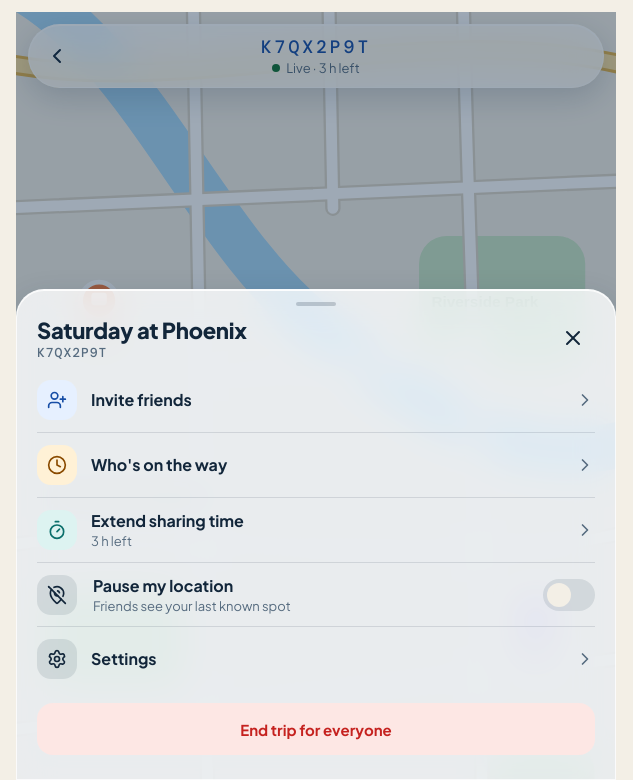
Scenario: Pause my location › pauses from the trip menu, stops reading the location, and resumes from the map
The image size is (633, 780).
Click the switch labelled "Pause my location" at {"x": 57, "y": 594}, box top-left (37, 572), bottom-right (595, 616)
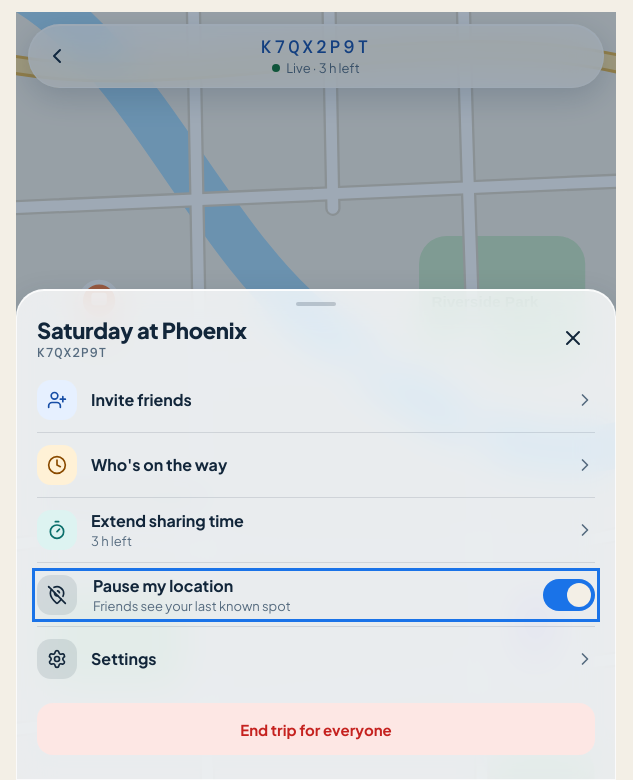
Expected: the switch labelled "Pause my location" is checked, top-left (37, 572), bottom-right (595, 616)
Click the link named "Close the menu" at {"x": 573, "y": 338}, box top-left (561, 326), bottom-right (585, 350)
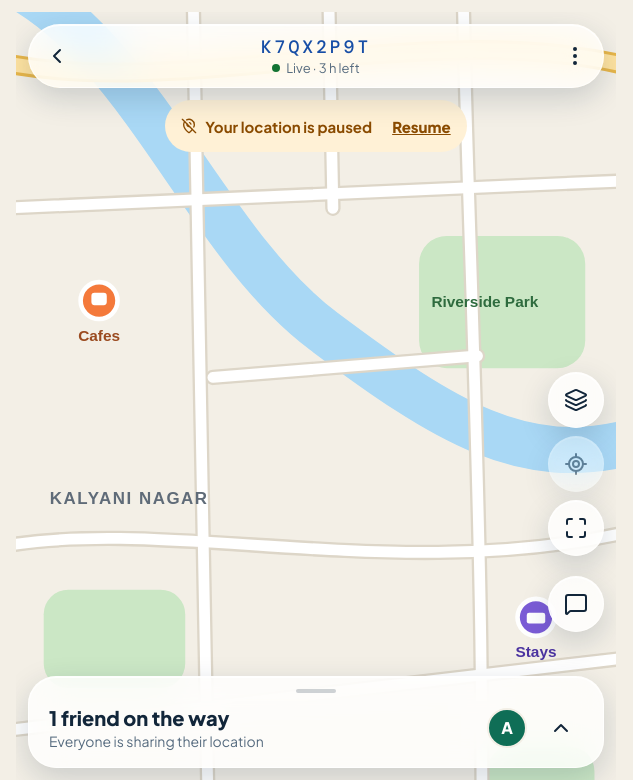
Expected: the text "Your location is paused" is shown, top-left (205, 116), bottom-right (372, 136)
Click the button "Resume" at {"x": 421, "y": 126}, box top-left (380, 104), bottom-right (463, 148)
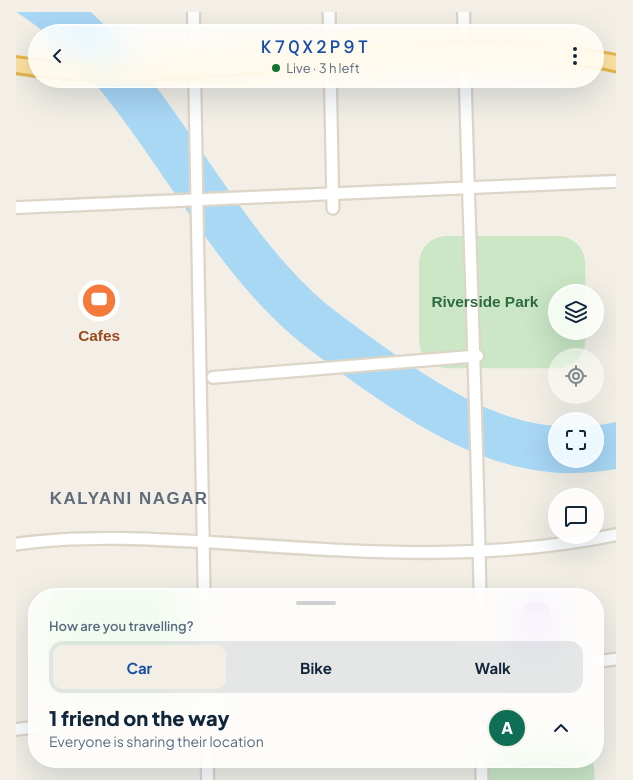
Expected: the text "Your location is paused" is gone
